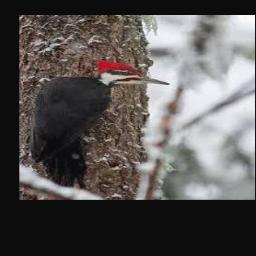Woodpecker: (36, 59, 169, 188)
